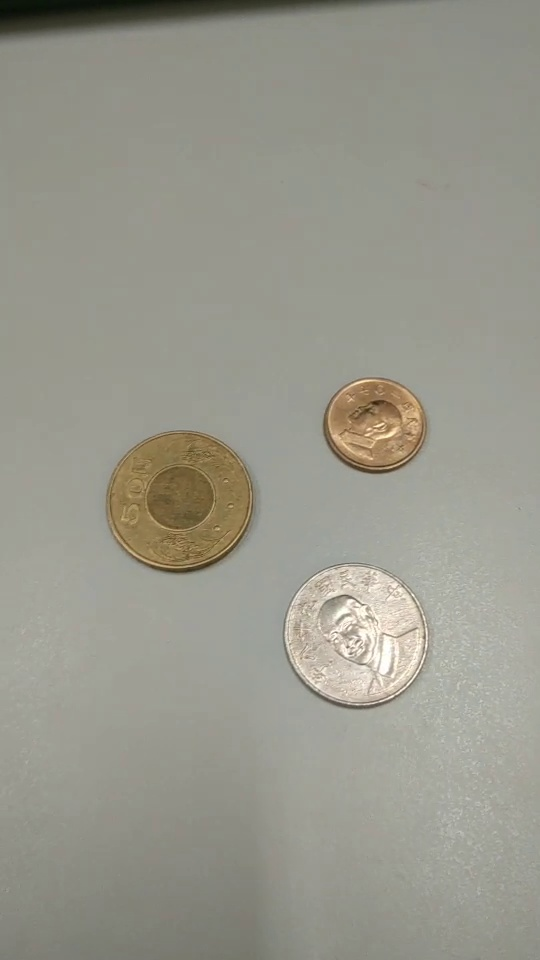NT$ 1: (322, 375, 427, 476)
NT$ 10: (280, 561, 429, 710)
NT$ 50: (107, 429, 253, 574)
